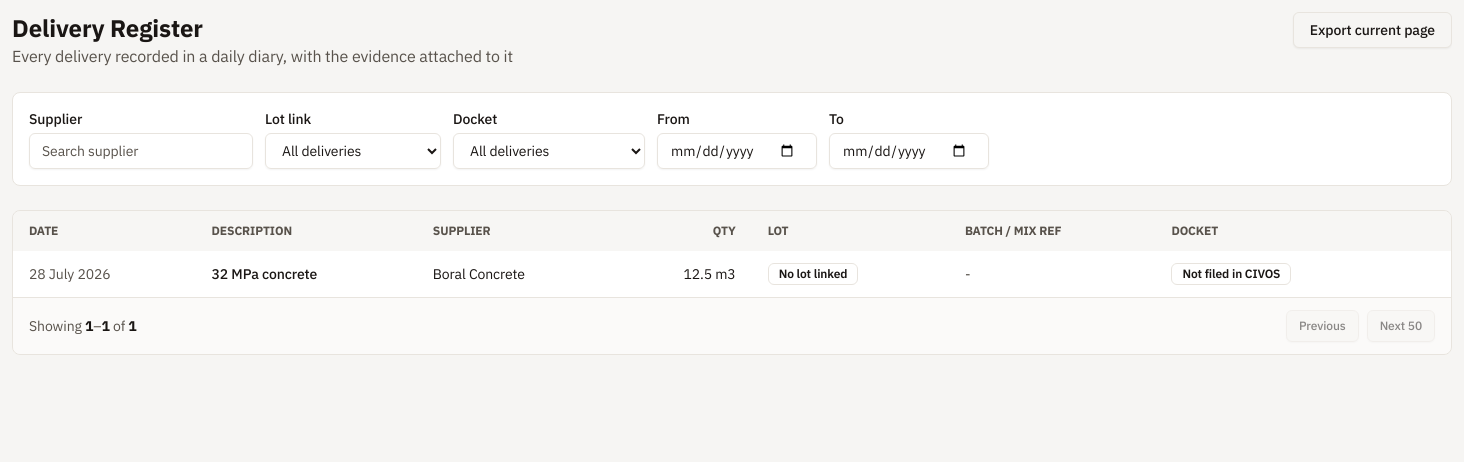
Test: DeliveryRegisterPage async states › keeps the rows that did load when a refresh fails
Expected: the text "32 MPa concrete" is shown, x1=196 y1=251 x2=417 y2=297
Step 1. Select "Not filed in CIVOS" in the dropdown labelled "Docket" → [549, 151], box x1=453 y1=133 x2=645 y2=169
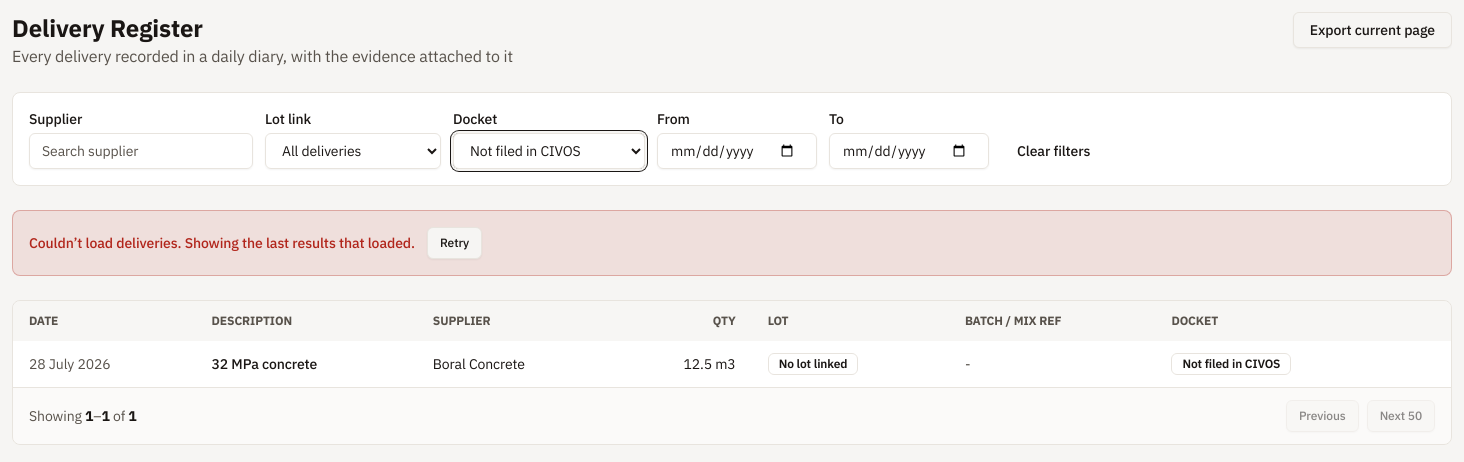
Expected: the text "32 MPa concrete" is shown, x1=196 y1=341 x2=417 y2=387
Result: the text "Showing the last results that loaded" is shown at x1=29 y1=234 x2=415 y2=252
